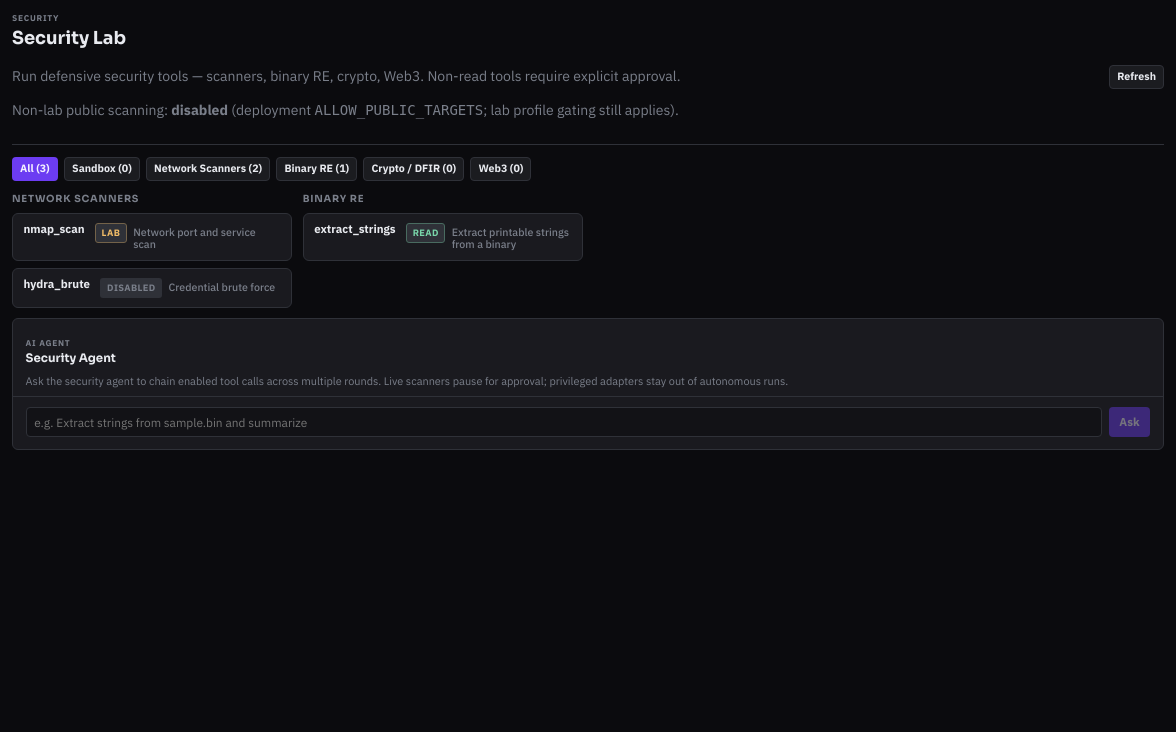
Test: Security Lab capability gating › shows the exact pending agent request and resumes only after an explicit approval
Type "write notes" into the field with placeholder "e.g. Extract strings from sample.bin and summarize".
click(564, 422); type("write notes")  # box [26, 407, 1102, 437]
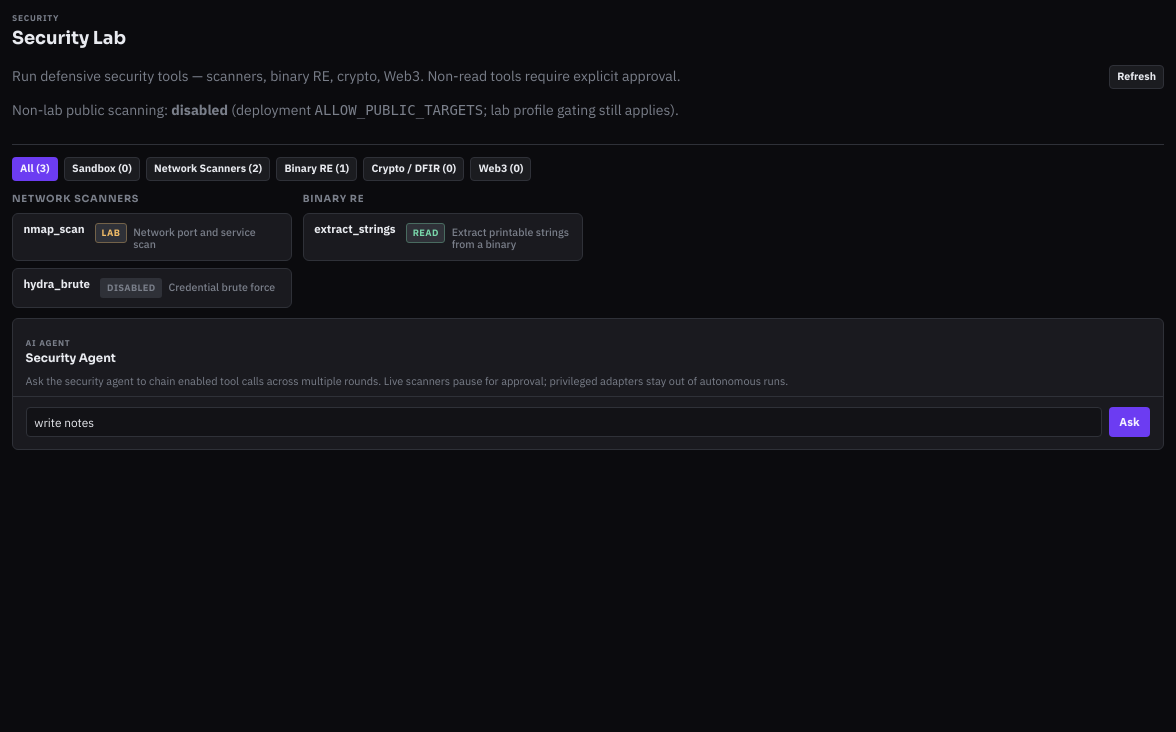
Click the button "Ask".
click(1129, 422)  # box [1108, 407, 1150, 437]
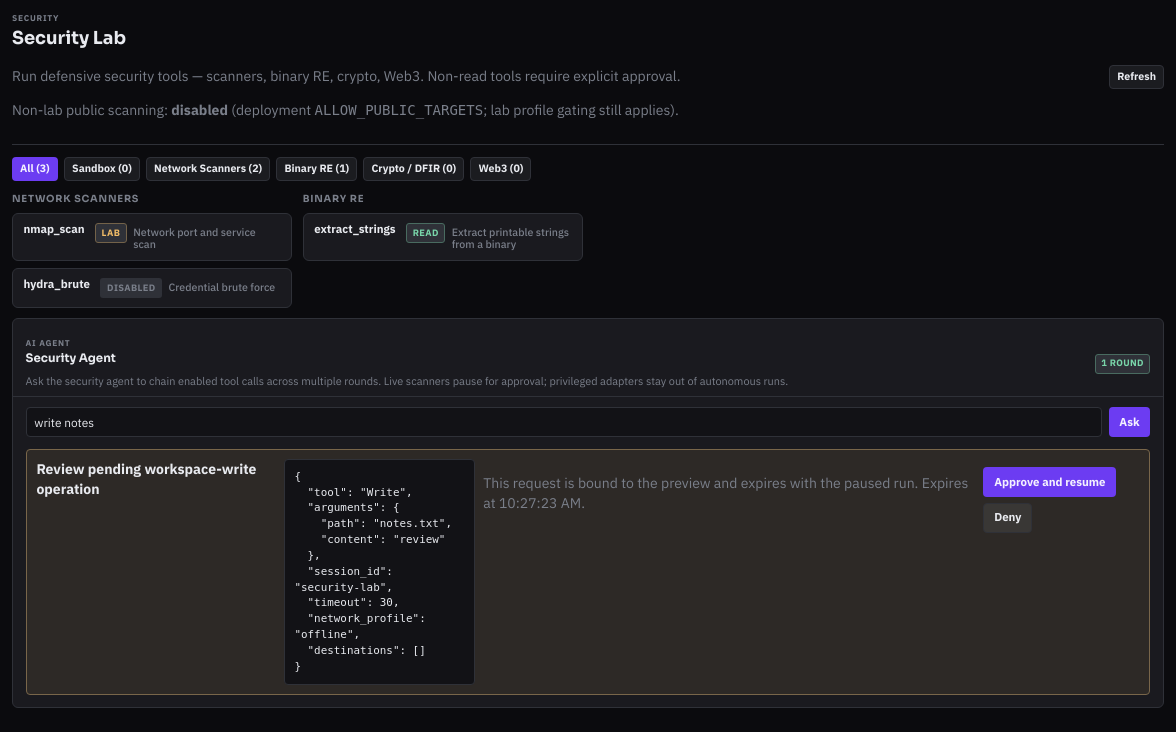
Result: the text "Review pending workspace-write operation" is shown at [36, 459, 275, 499]
Result: the text "notes.txt" is shown at [294, 470, 452, 673]
Click the button "Approve and resume".
click(1050, 482)  # box [983, 467, 1116, 497]
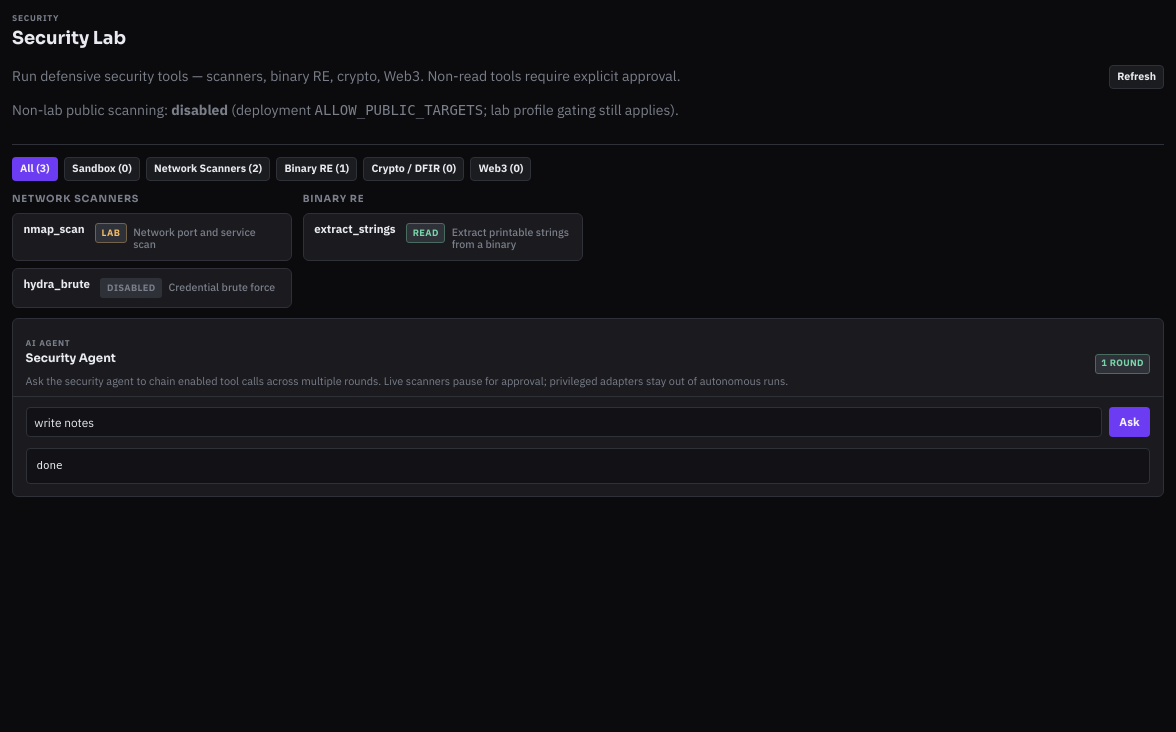
Result: the text "done" is shown at [26, 448, 1150, 484]
